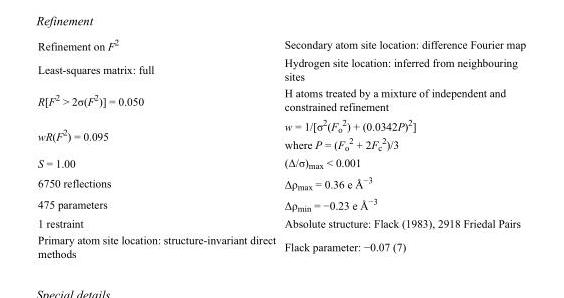table: (37, 36, 525, 259)
table column: (279, 36, 525, 259), (37, 36, 279, 259)
table row: (37, 114, 525, 153), (37, 53, 525, 84), (37, 84, 525, 114), (37, 231, 525, 259), (37, 172, 525, 193), (37, 193, 525, 214), (37, 153, 525, 172), (37, 36, 525, 53), (37, 214, 525, 231)
